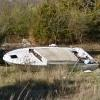Boat: (1, 39, 98, 85)
